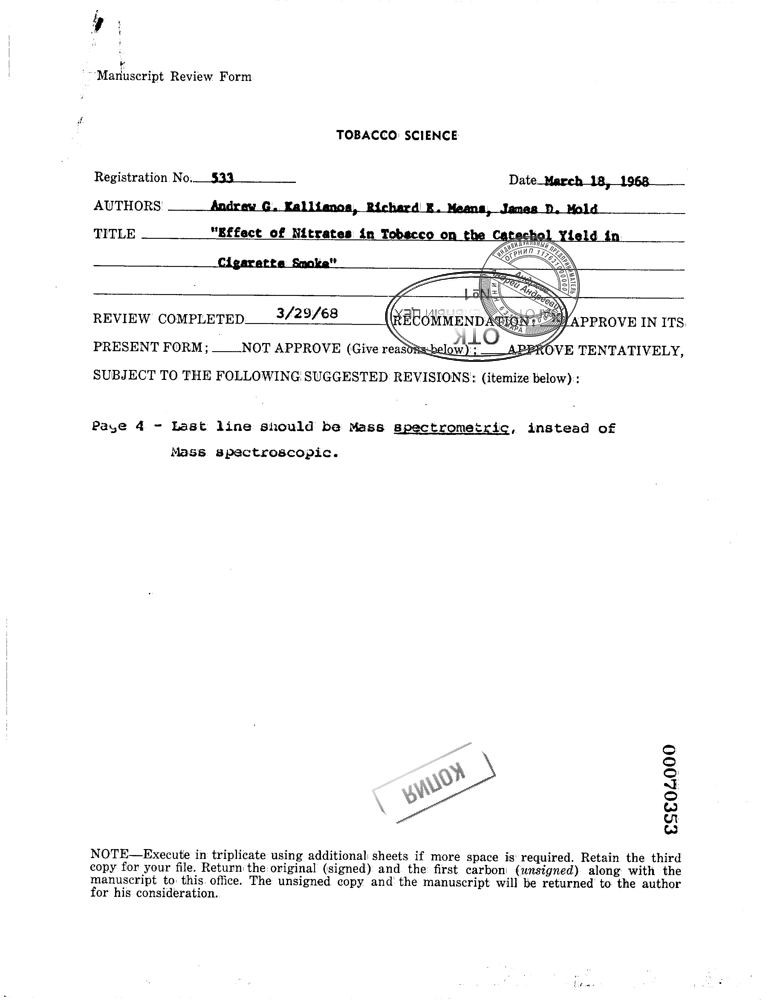circle_2: (461, 218, 598, 355)
oval_1: (385, 271, 568, 362)
word_1: (369, 736, 499, 830)
